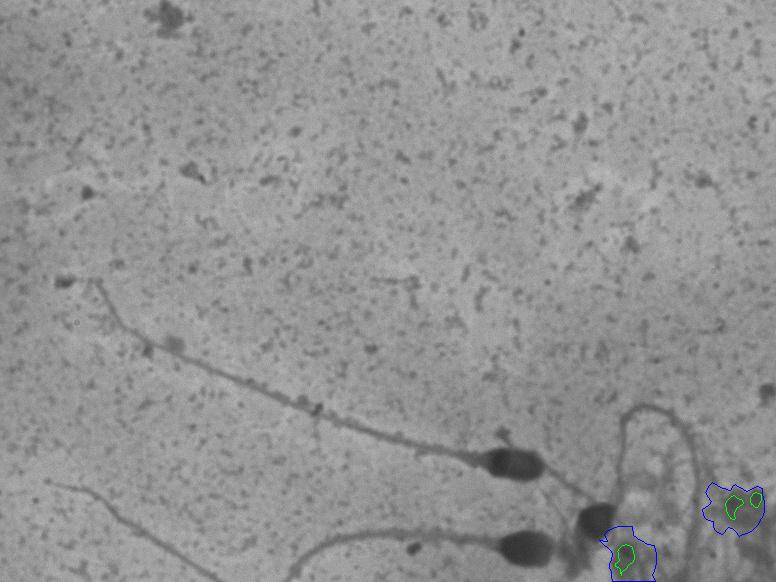Abnormal: (280, 381, 557, 497)
